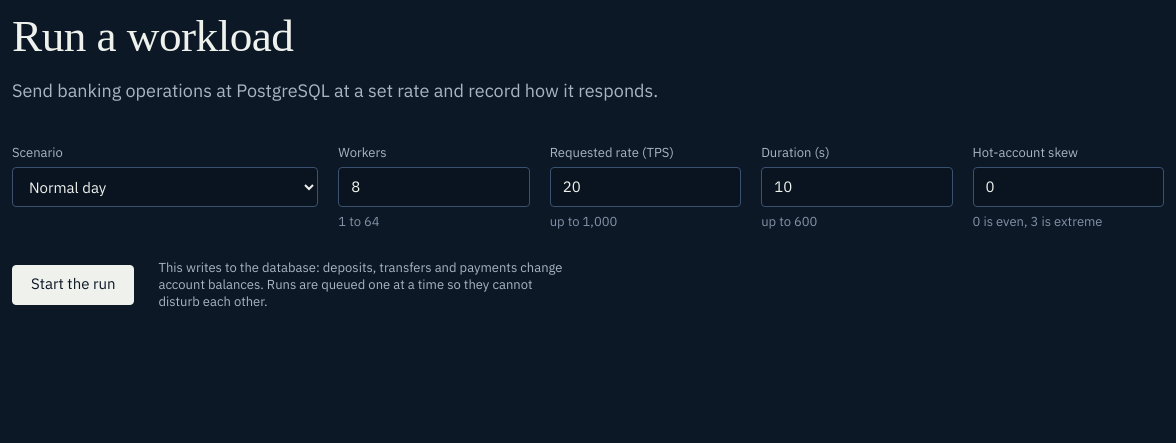
Run › reports the server's reason when the job is refused
Click the button "Start the run" at {"x": 73, "y": 284}, box [12,264,134,304]
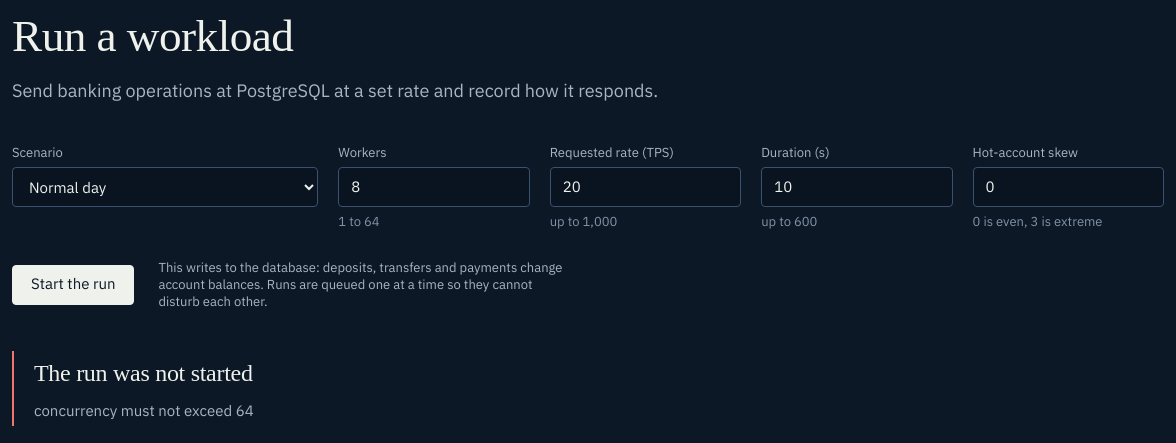
Expected: the message shows "concurrency must not exceed 64", [34,401,254,420]
